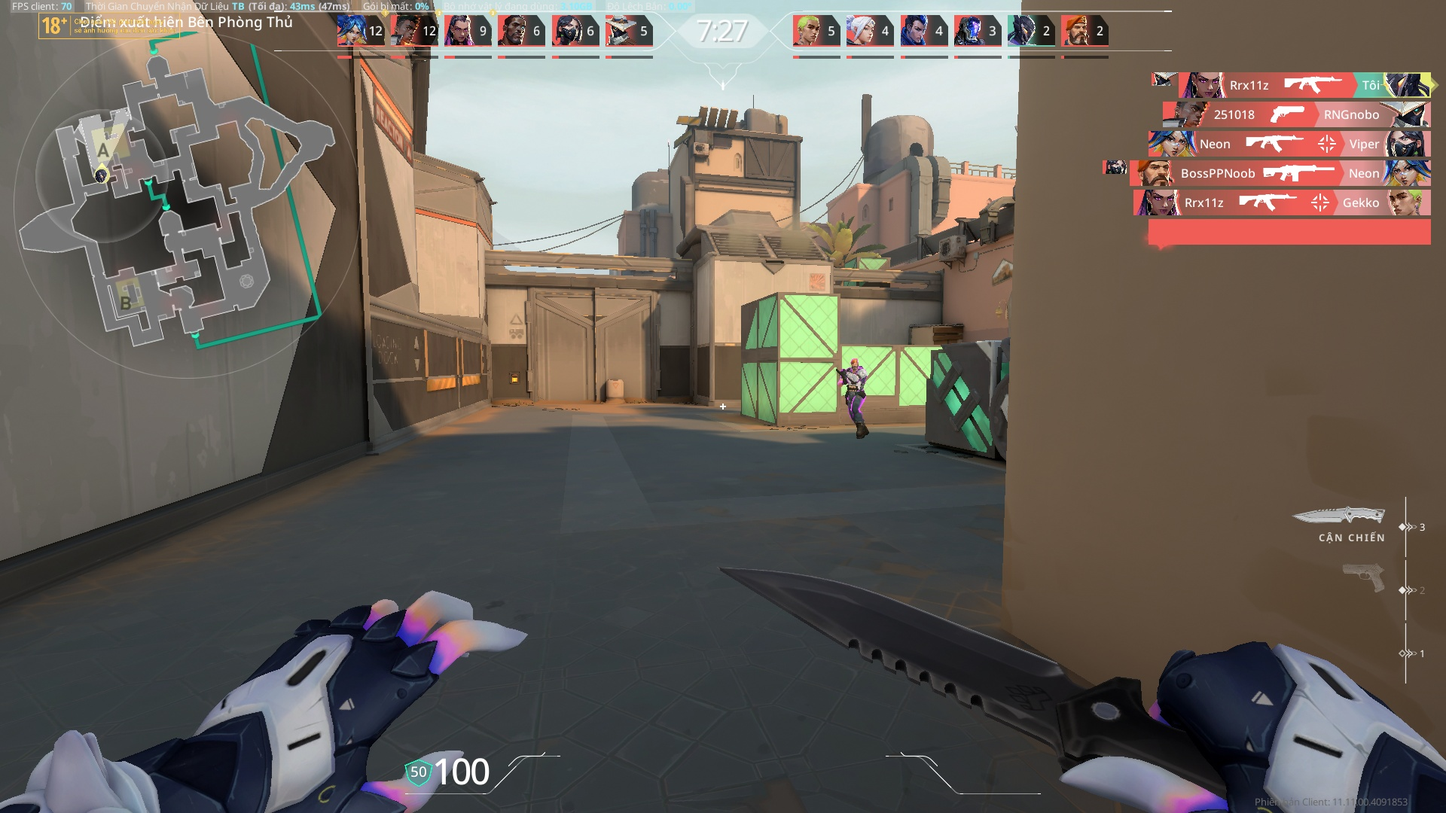body: (842, 365, 868, 396)
head: (849, 357, 860, 370)
